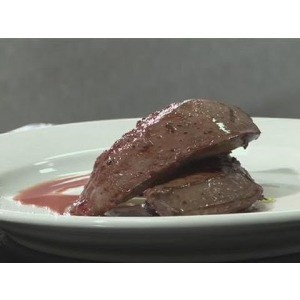liver_brain food: (93, 103, 260, 195)
